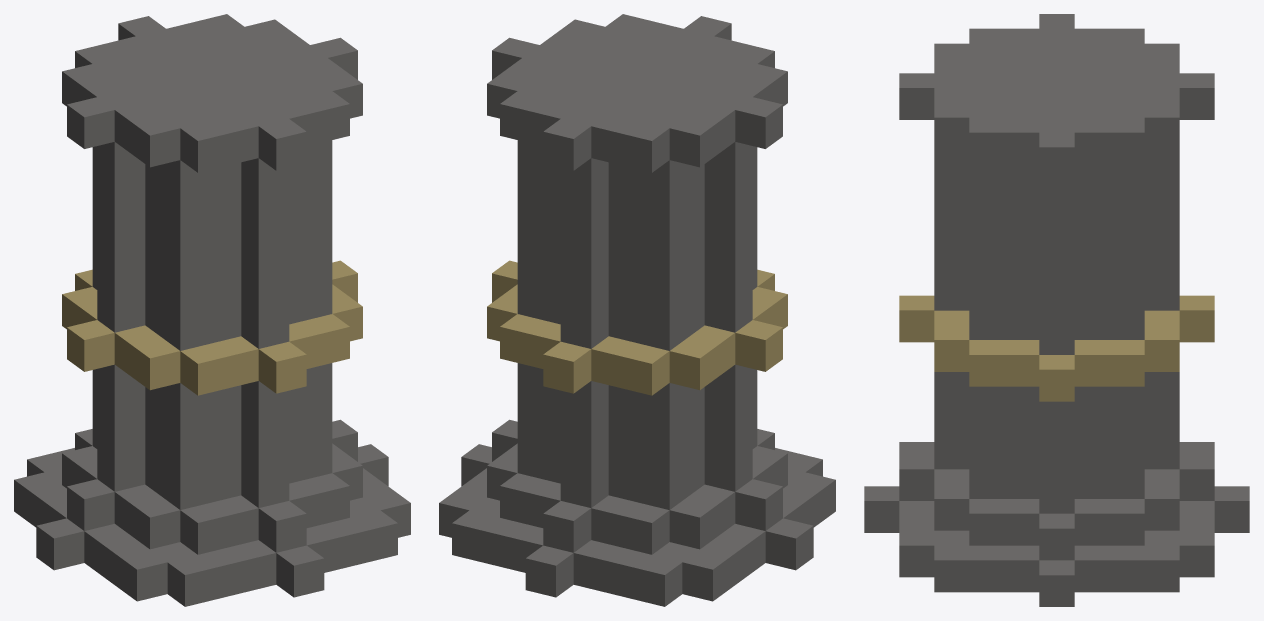
Rendered from chimney.glb.
3 renders of one model, left to right at view 1: azimuth 30°, elevation 25°; view 2: azimuth 150°, elevation 25°; view 3: azimuth 270°, elevation 25°, orthographic.
Bounding box in the file's own units: 11 × 14 × 11.
